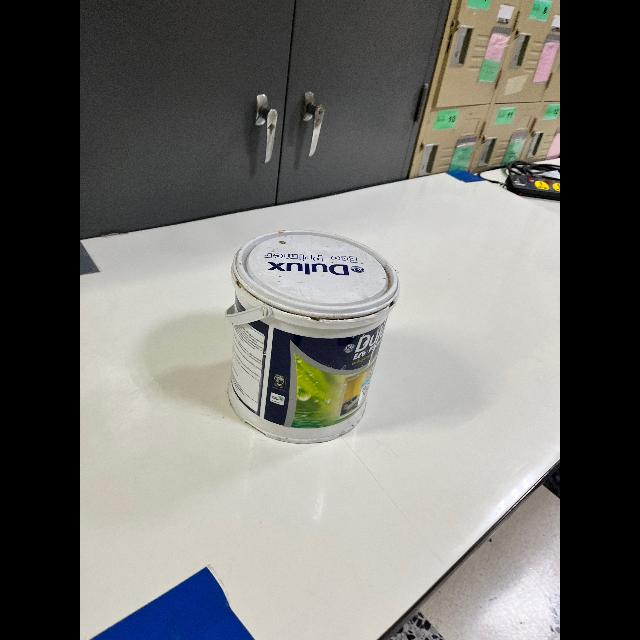paint_bucket: (220, 226, 398, 458)
